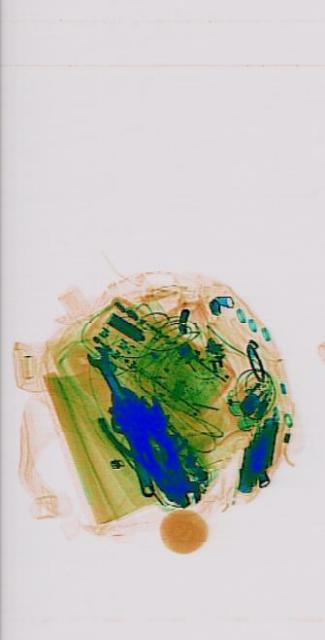Wrench: (84, 334, 129, 416)
